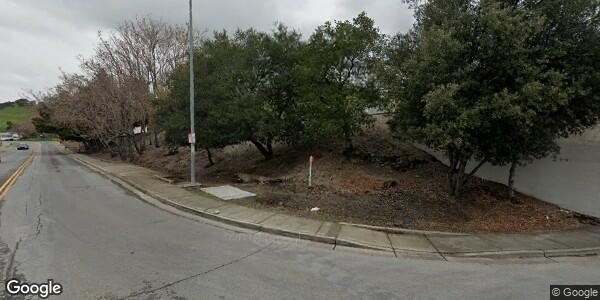Steel_Pole: (183, 1, 201, 188)
